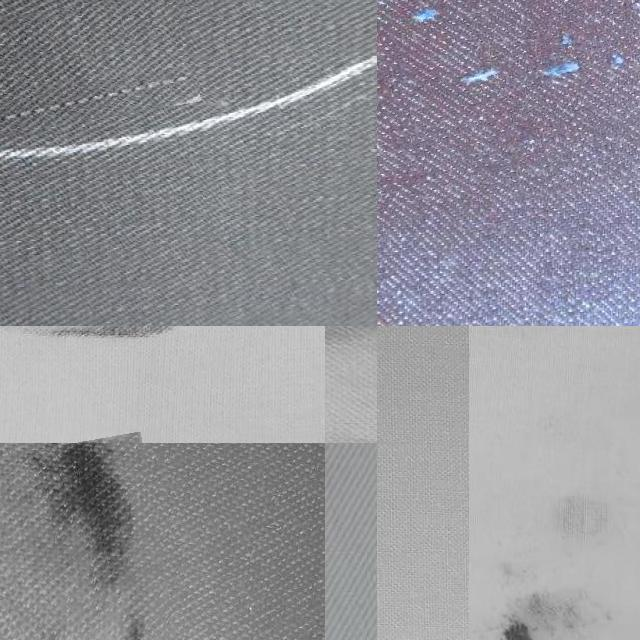Thread_other: (0, 437, 169, 640), (0, 326, 306, 386), (468, 559, 640, 640), (499, 466, 640, 555)
stains: (377, 0, 640, 212)
